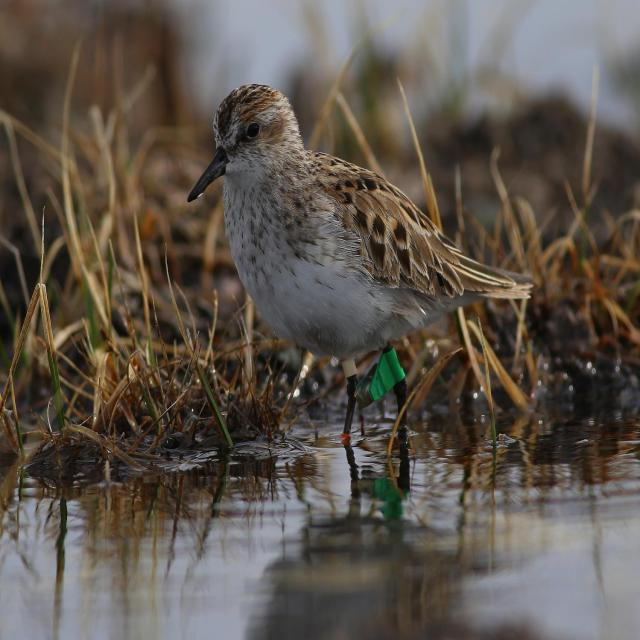Sandpiper: (180, 79, 526, 458)
